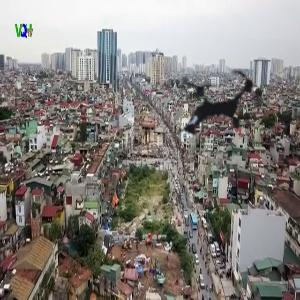drone: (141, 30, 289, 178)
